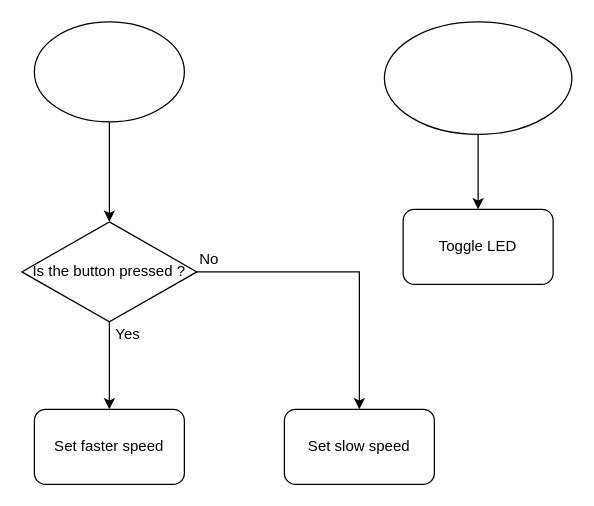
This 594x506 diagram has some shape labels left out. The shapes that lost their labels are listed below. From the top down, each one's centre as x and y in pixels, then its label:
At pixel 108 71: "int main(void)".
At pixel 477 77: "ISR(TIMER1_OVF_vect)".
